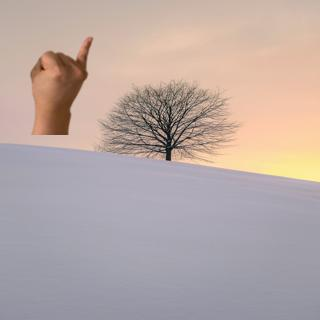FINE: (27, 33, 95, 119)
